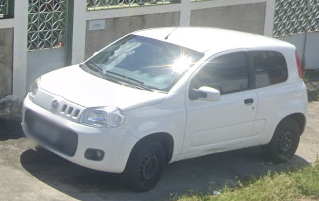car: (22, 26, 308, 190)
